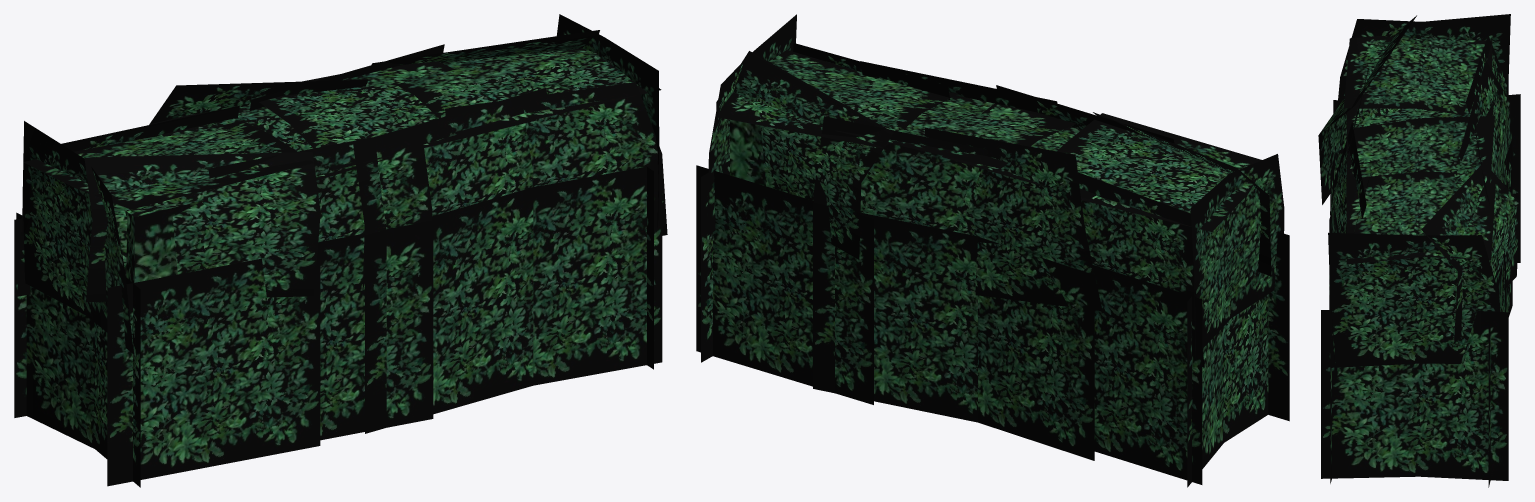
The model's file is hedge_6.fbx.
3 views of the same model, side by side, from view 1: azimuth 30°, elevation 25°; view 2: azimuth 150°, elevation 25°; view 3: azimuth 270°, elevation 25° (orthographic). The views are drawn at different scales.
Parts seen in each view (by area): view 1: bush_12, bush_21, bush_19, bush_13, bush_20, bush_15, bush_14, bush_22, bush_24, bush_7, bush_23, bush_8 (+10 smaller); view 2: bush_2, bush_1, bush_17, bush_3, bush_6, bush_5, bush_16, bush_15, bush_4, bush_14, bush_18, bush_7 (+10 smaller); view 3: bush_10, bush_11, bush_16, bush_8, bush_7, bush_5, bush_15, bush_6, bush_13, bush_22, bush_9, bush_14 (+6 smaller).
Part boxes in pixels (left/top/right/bottom): bush_12: left=107, top=247, right=320, bottom=486; bush_21: left=526, top=164, right=662, bottom=385; bush_19: left=365, top=185, right=538, bottom=433; bush_13: left=84, top=151, right=320, bottom=302; bush_20: left=318, top=220, right=433, bottom=440; bush_15: left=22, top=121, right=133, bottom=353; bush_14: left=16, top=212, right=140, bottom=487; bush_22: left=353, top=88, right=546, bottom=290; bush_24: left=445, top=82, right=667, bottom=235; bush_7: left=396, top=48, right=661, bottom=137; bush_23: left=208, top=128, right=432, bottom=242; bush_8: left=259, top=61, right=536, bottom=169; bush_2: left=696, top=165, right=873, bottom=404; bush_1: left=813, top=203, right=977, bottom=422; bush_17: left=1093, top=265, right=1202, bottom=484; bush_3: left=973, top=235, right=1094, bottom=460; bush_6: left=924, top=127, right=1102, bottom=311; bush_5: left=716, top=51, right=893, bottom=259; bush_16: left=1023, top=113, right=1261, bottom=231; bush_15: left=1190, top=154, right=1284, bottom=356; bush_4: left=813, top=116, right=988, bottom=235; bush_14: left=1187, top=294, right=1268, bottom=487; bush_18: left=1078, top=172, right=1204, bottom=367; bush_7: left=717, top=50, right=957, bottom=148; bush_10: left=1321, top=310, right=1508, bottom=480; bush_11: left=1328, top=232, right=1500, bottom=367; bush_16: left=1344, top=35, right=1492, bottom=114; bush_8: left=1346, top=116, right=1494, bottom=197; bush_7: left=1346, top=171, right=1496, bottom=264; bush_5: left=1421, top=162, right=1520, bottom=343; bush_15: left=1338, top=14, right=1510, bottom=100; bush_6: left=1459, top=60, right=1513, bottom=188; bush_13: left=1318, top=15, right=1416, bottom=204; bush_22: left=1332, top=122, right=1366, bottom=233; bush_9: left=1346, top=97, right=1494, bottom=165; bush_14: left=1333, top=94, right=1520, bottom=262.
Bounding box in the file's own units: 666 × 352 × 248.
1 material, 1 textured.
